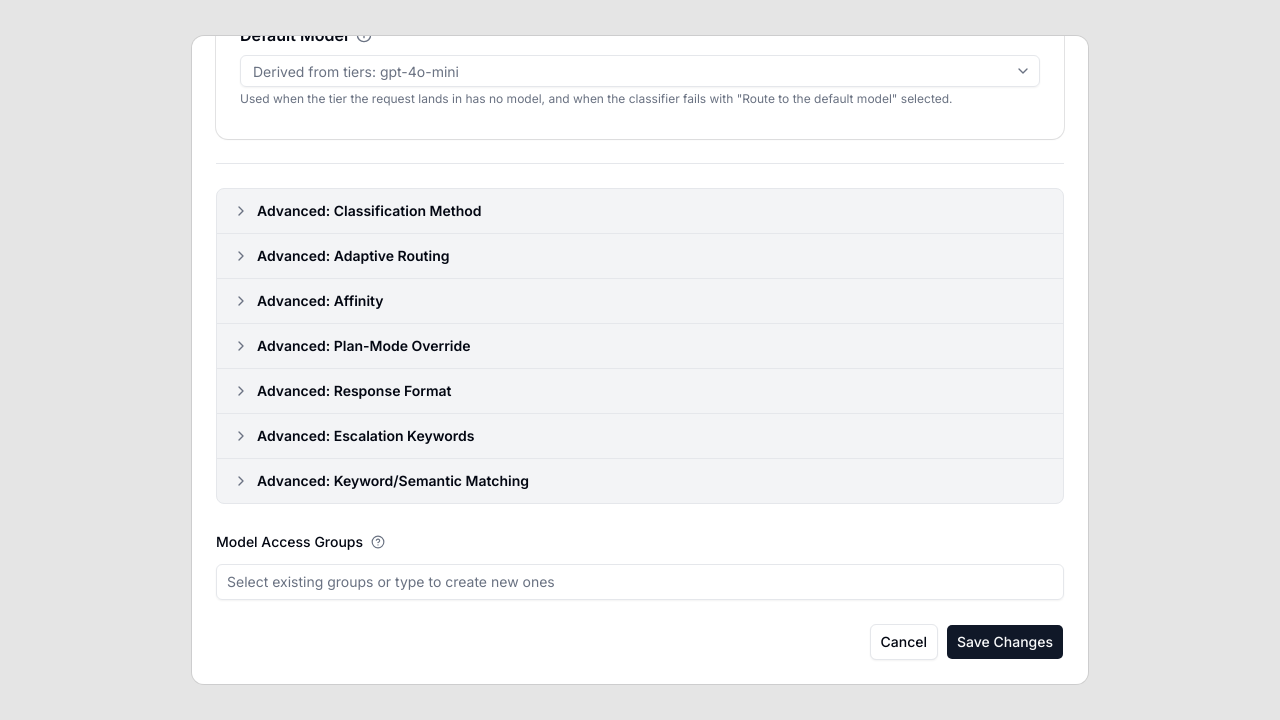
Test: EditAutoRouterModal keyword matching › blocks a save that adds a keyword rule and leaves it empty
(page scrolled)
expect the text "Advanced: Escalation Keywords" is shown: met, box x1=257 y1=426 x2=474 y2=446
What coordinates should you click on to do the following:
click the button "Advanced: Keyword/Semantic Matching"
I would click on:
 (393, 481)
Its box is x1=217 y1=459 x2=1063 y2=503.
(page scrolled)
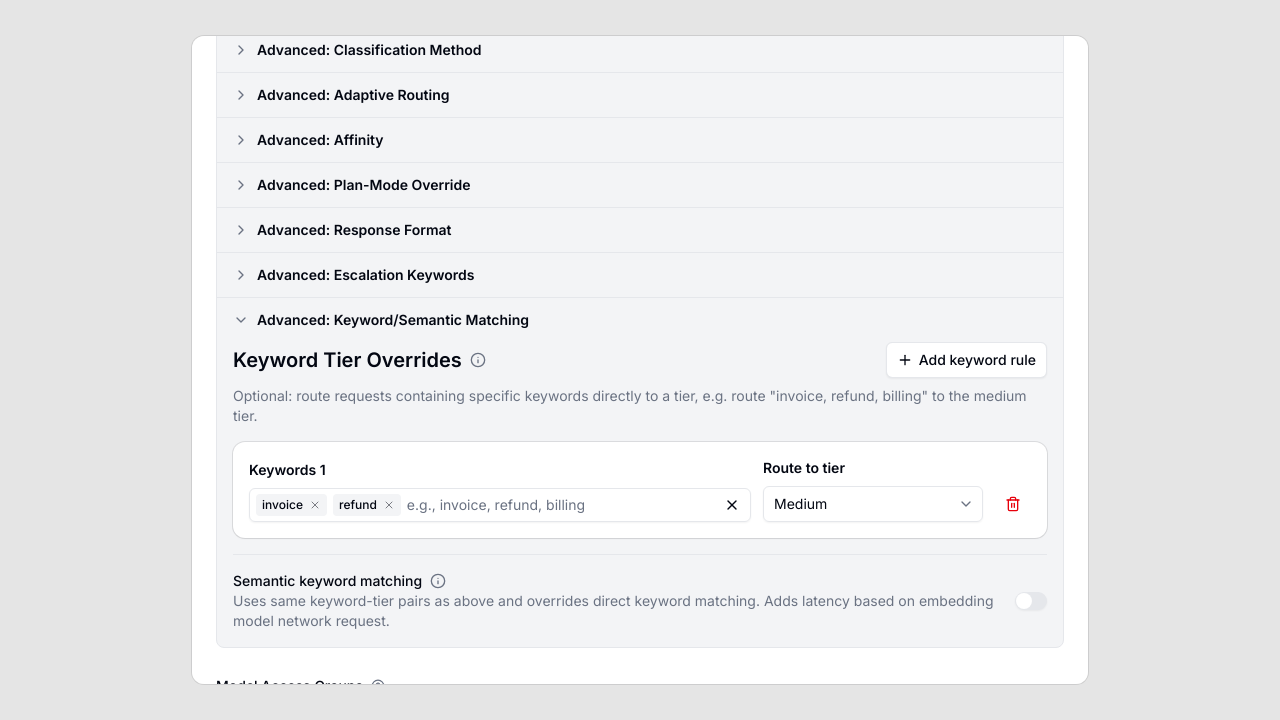
What coordinates should you click on to do the following:
click the button "Add keyword rule"
I would click on:
 (966, 360)
Its box is x1=886 y1=342 x2=1047 y2=378.
(page scrolled)
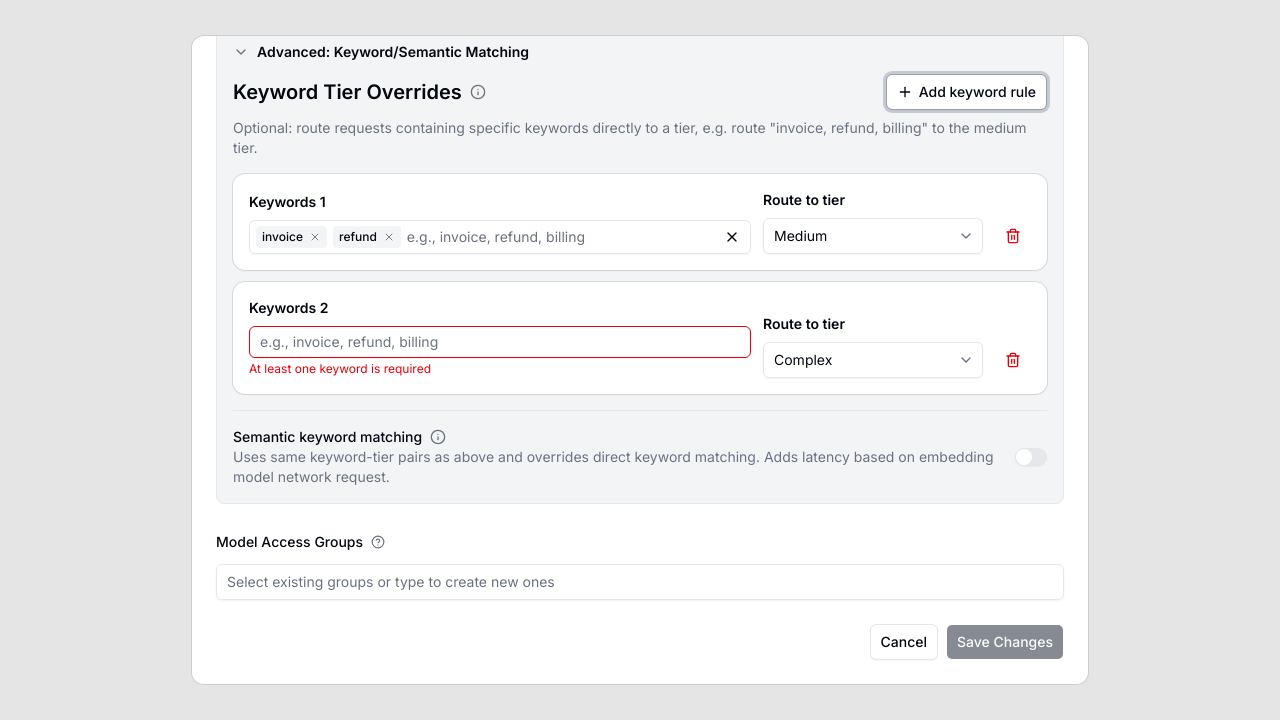
expect the text "At least one keyword is required" is shown: met, box x1=249 y1=361 x2=431 y2=376
expect the button "Save Changes" is disabled: met, box x1=946 y1=624 x2=1064 y2=660
